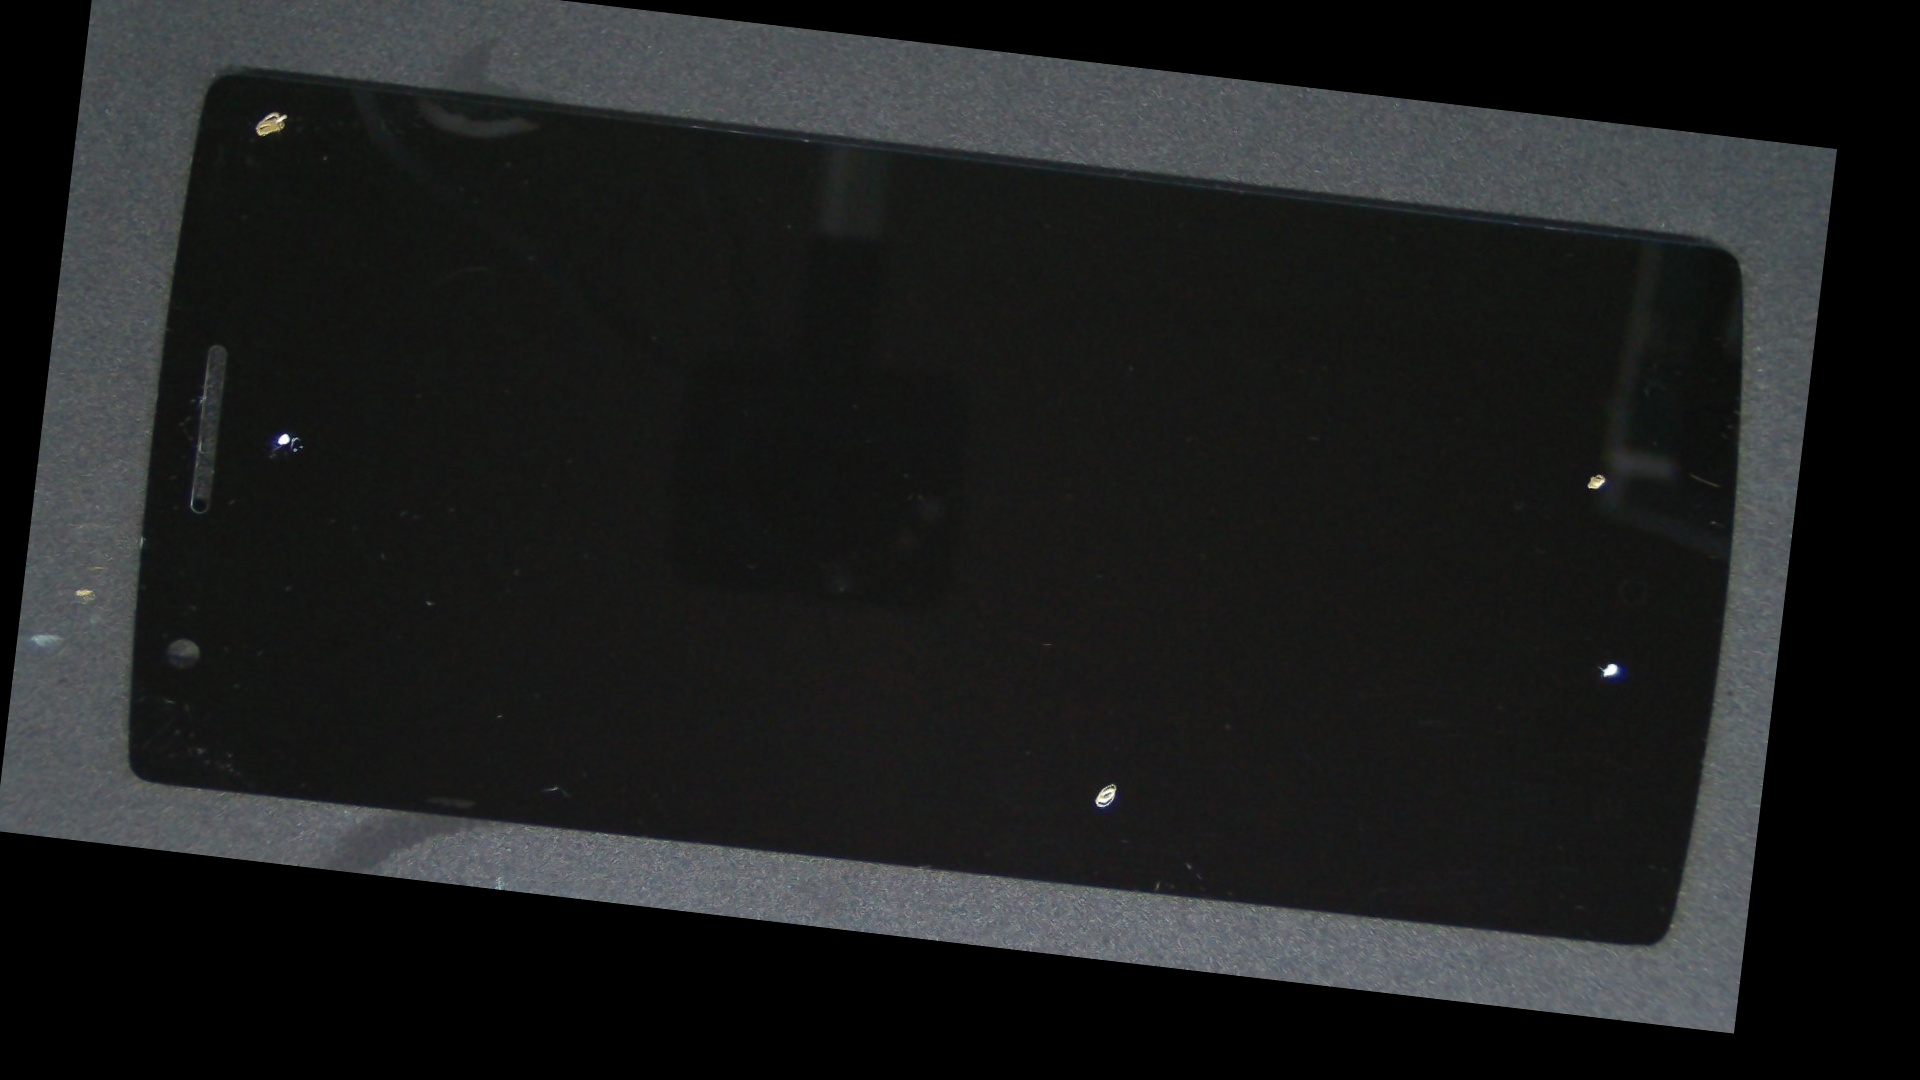oil: (545, 364, 1702, 1023), (793, 305, 1807, 948), (808, 210, 1817, 670), (140, 189, 434, 675), (170, 28, 377, 193)
